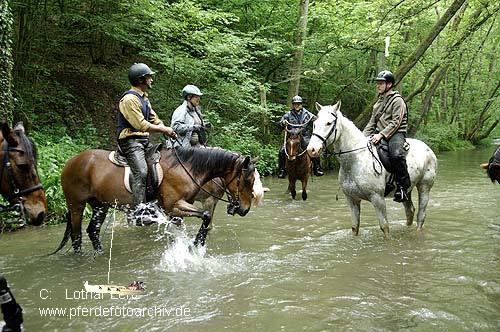tampered: (84, 200, 147, 295)
